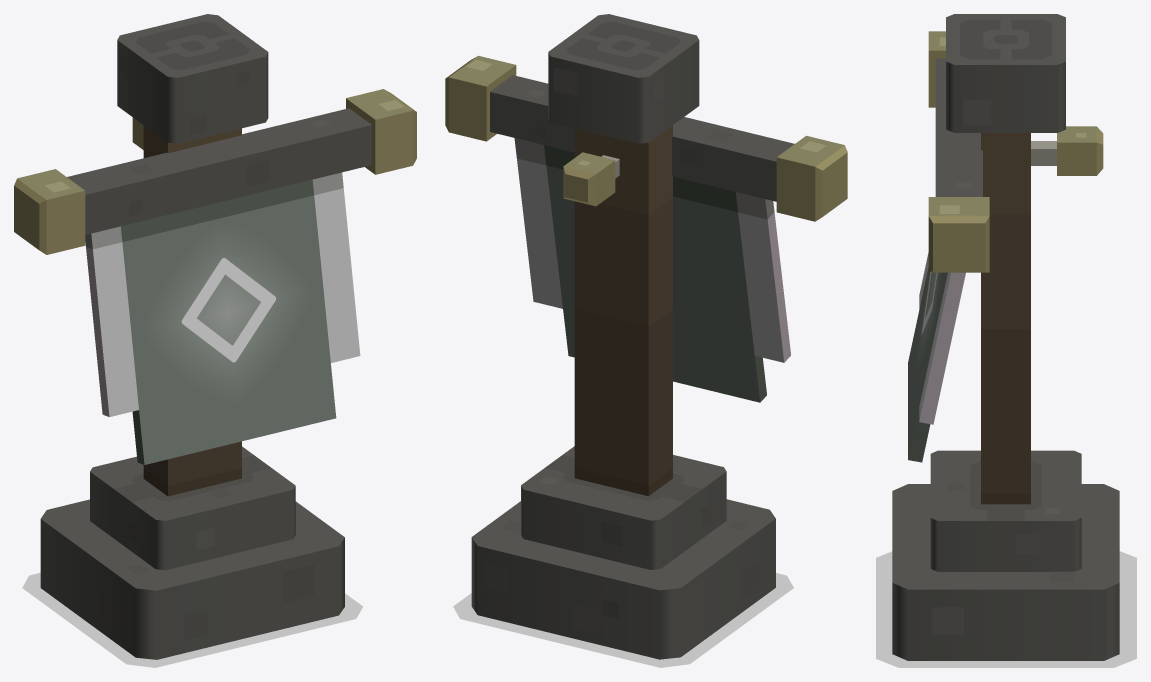
Rendered from MG_typeBanner_normaltype.fbx.
3 views of the same model, side by side, from view 1: azimuth 30°, elevation 25°; view 2: azimuth 150°, elevation 25°; view 3: azimuth 270°, elevation 25° (orthographic). The views are drawn at different scales.
Visible parts, largest first — view 1: polySurface6, polySurface5, ground; view 2: polySurface6, polySurface5, ground; view 3: polySurface6, polySurface5, ground.
Boxes of the visible parts, x1,y1,x2,y2 form: polySurface6: (14,14,416,659); polySurface5: (85,172,360,464); ground: (22,572,363,667); polySurface6: (445,14,847,659); polySurface5: (514,138,790,402); ground: (453,573,793,667); polySurface6: (892,14,1119,660); polySurface5: (908,252,965,462); ground: (876,551,1136,667).
Size of the model in its own units: 5.12 by 7.14 by 2.97.
